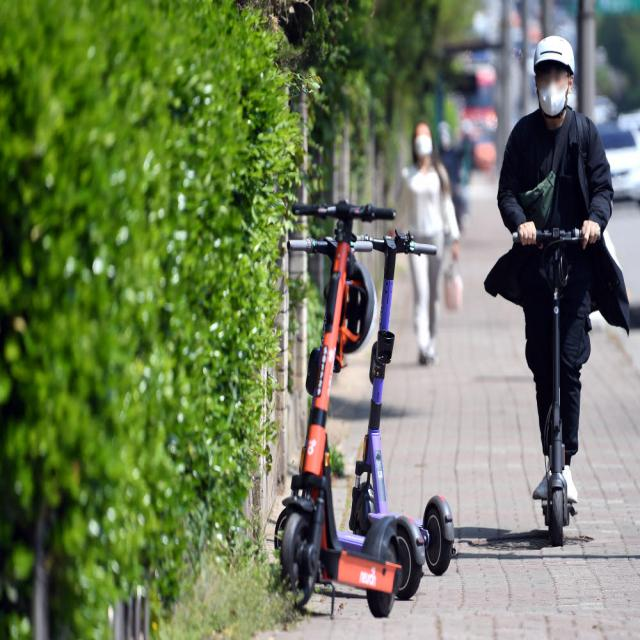helmet: (478, 24, 640, 550)
